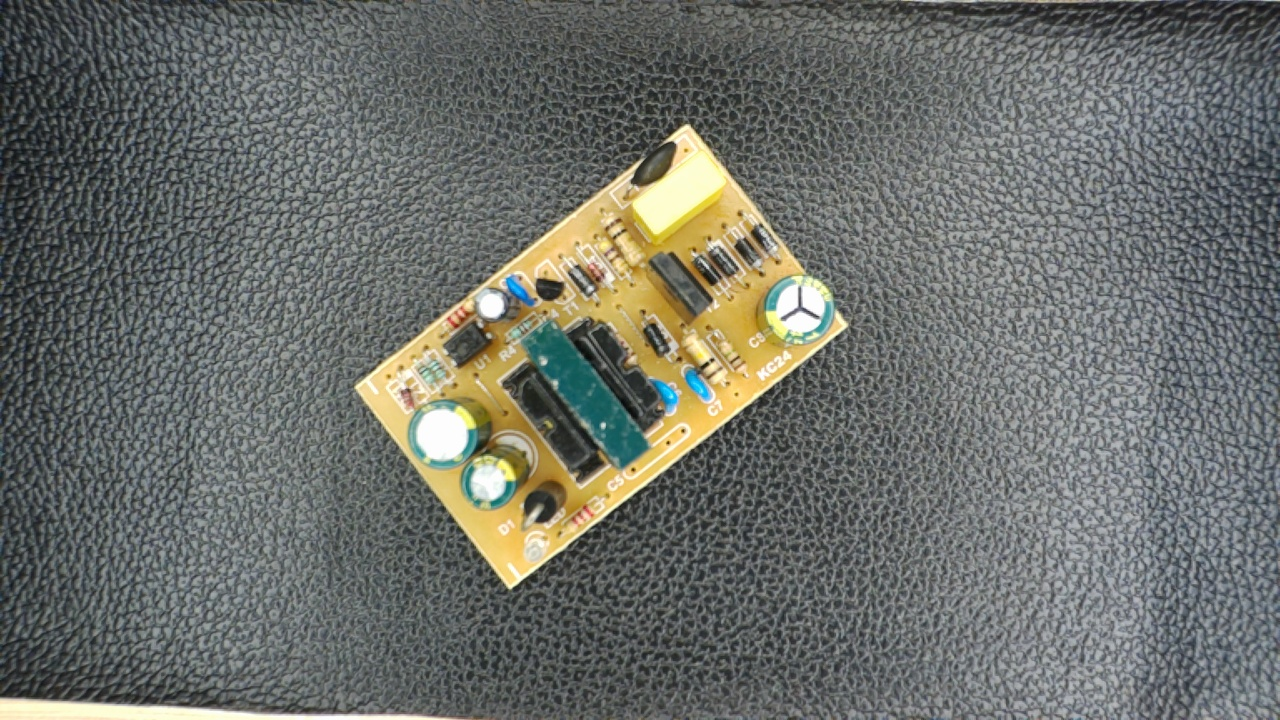fuse: (621, 137, 690, 197)
hv_capacitor: (755, 269, 839, 351)
optocoupler: (437, 320, 492, 371)
